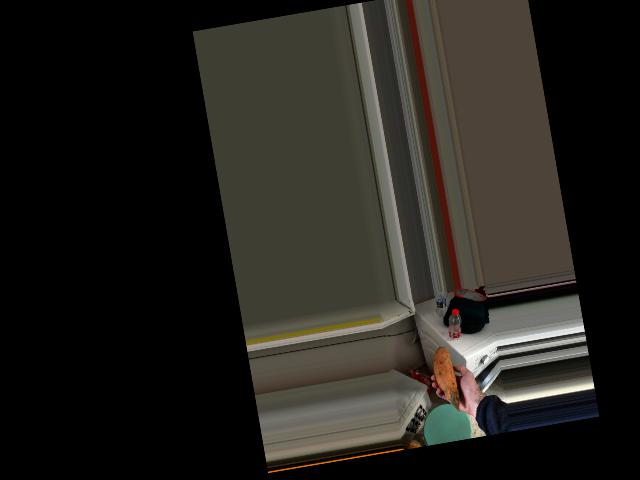sweet_potato: (430, 351, 461, 410)
